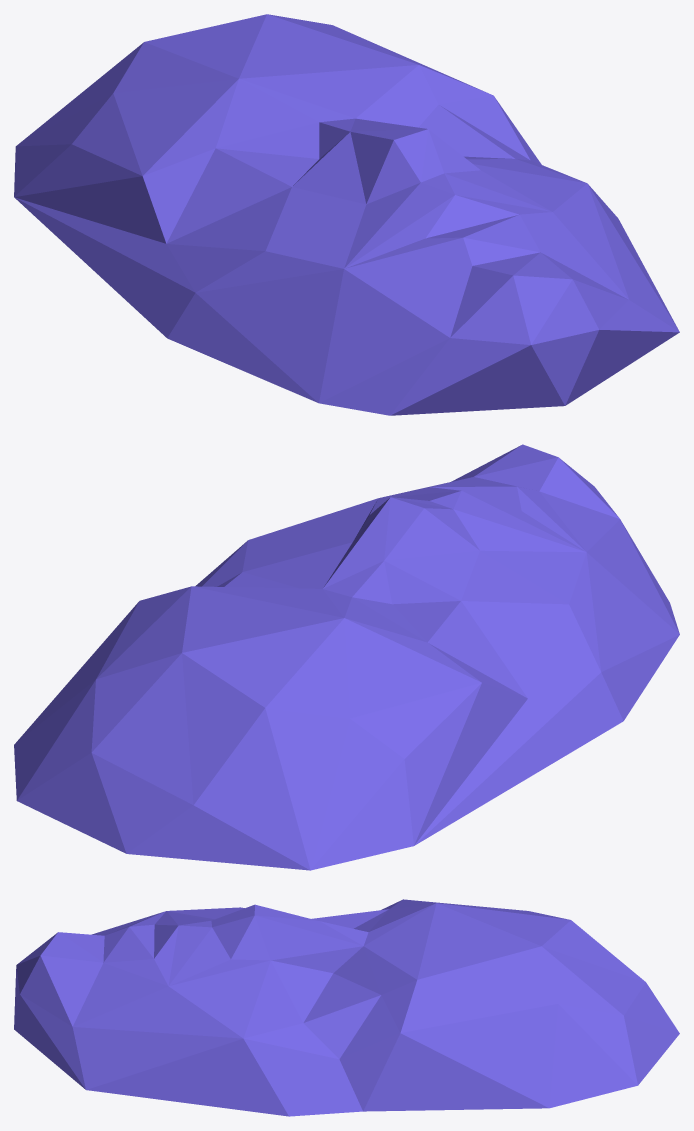
The model's file is armaskH.gltf.
3 renders of one model, top to bottom at view 1: azimuth 30°, elevation 25°; view 2: azimuth 150°, elevation 25°; view 3: azimuth 270°, elevation 25°, orthographic. The views are drawn at different scales.
Parts seen in each view (by area): view 1: face195x120x39point2; view 2: face195x120x39point2; view 3: face195x120x39point2.
Boxes of the visible parts, bbox=[...] form: face195x120x39point2: bbox=[14, 14, 679, 415]; face195x120x39point2: bbox=[14, 444, 679, 870]; face195x120x39point2: bbox=[14, 899, 679, 1116].
Size of the model in its own units: 60 by 19.6 by 97.5.
